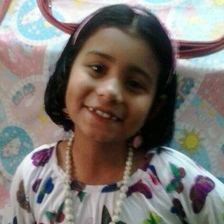no_mask: (72, 33, 154, 138)
